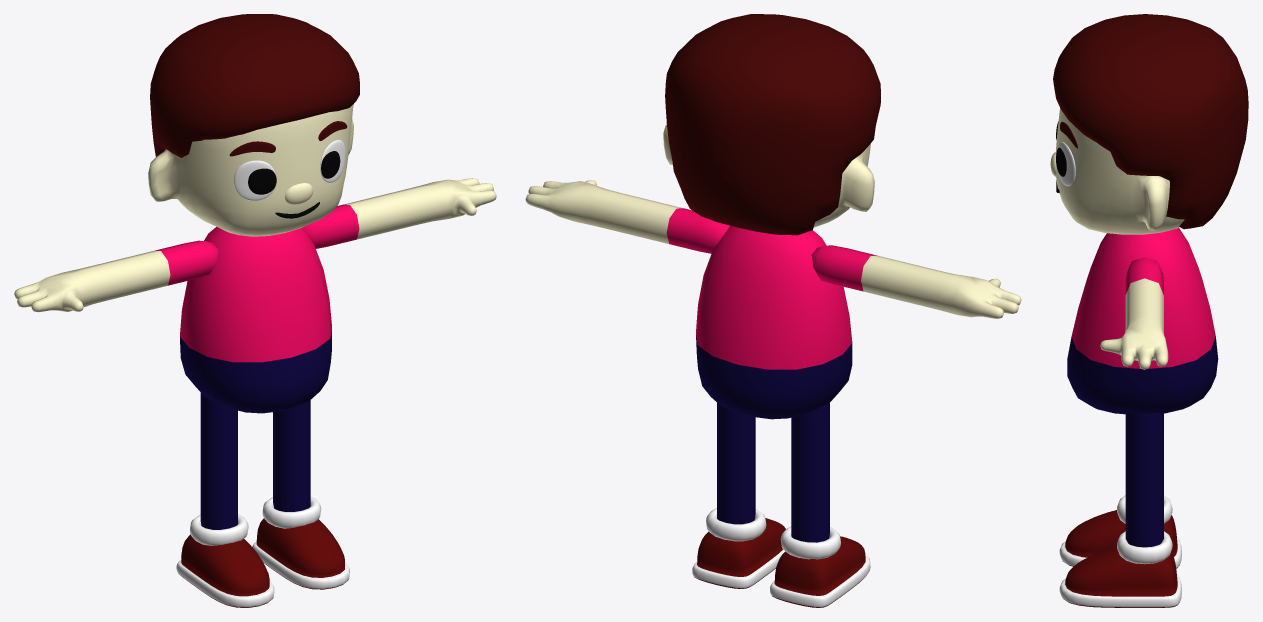
The model's file is Player.glb.
The picture shows the model from 3 angles, left to right: view 1: azimuth 30°, elevation 25°; view 2: azimuth 150°, elevation 25°; view 3: azimuth 270°, elevation 25°; orthographic projection. The views are drawn at different scales.
Parts seen in each view (by area): view 1: Torso.001; view 2: Torso.001; view 3: Torso.001.
Part boxes in pixels (x1,y1,x2,y2): Torso.001: [14, 14, 496, 607]; Torso.001: [525, 14, 1021, 607]; Torso.001: [1050, 14, 1248, 607].
Size of the model in its own units: 1.59 by 1.72 by 0.5673.
1 material, 1 textured.
